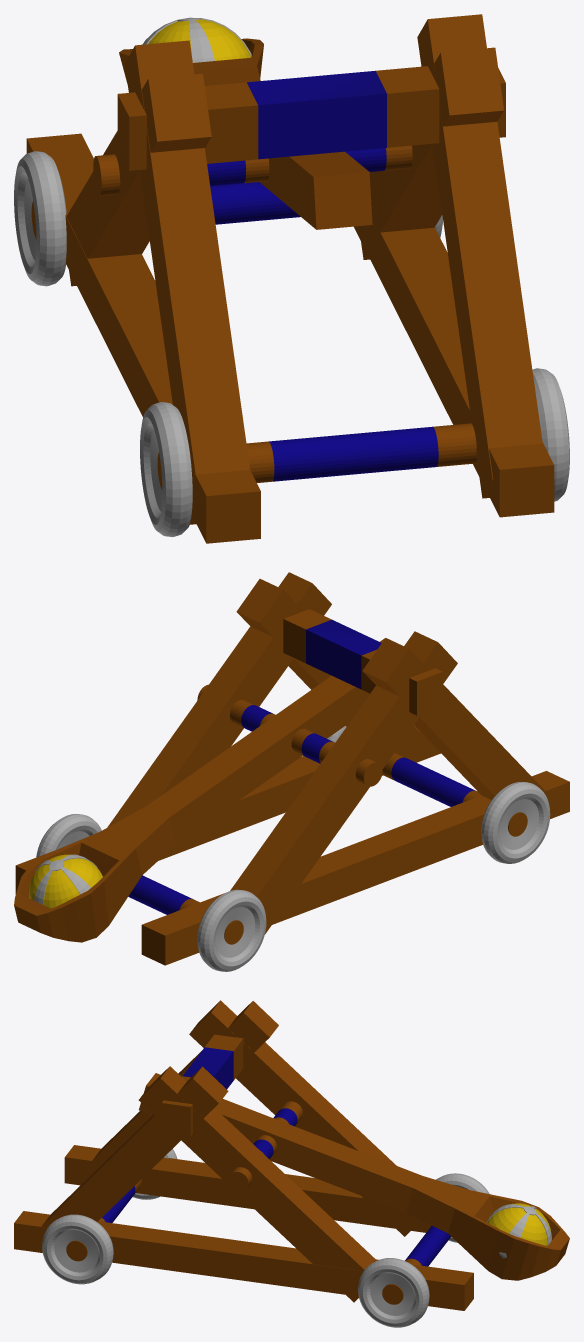
File: Катапульта3.fbx
3 views of the same model, one above another, from view 1: azimuth 30°, elevation 25°; view 2: azimuth 150°, elevation 25°; view 3: azimuth 270°, elevation 25° (orthographic). The views are drawn at different scales.
Parts seen in each view (by area): view 1: Куб.050, Куб.053, Куб.046, Куб.047, Куб.048, Куб.051, Куб.049, Цилиндр.095, Куб.052, Тор.020, Тор.021, Цилиндр.097 (+4 smaller); view 2: Куб.052, Куб.047, Куб.051, Куб.049, Куб.053, Куб.046, Куб.048, Тор.020, Тор.021, Куб.050, Цилиндр.095, Цилиндр.097 (+4 smaller); view 3: Куб.052, Куб.048, Куб.049, Куб.051, Куб.047, Куб.050, Тор.022, Тор.019, Куб.046, Куб.053, Цилиндр.097, Цилиндр.096 (+4 smaller).
Boxes of the visible parts, x1,y1,x2,y2 form: Куб.050: (417,14,542,498); Куб.053: (124,40,249,524); Куб.046: (117,66,505,170); Куб.047: (26,133,260,543); Куб.048: (354,226,554,517); Куб.051: (66,73,211,286); Куб.049: (359,47,503,259); Цилиндр.095: (157,423,476,489); Куб.052: (119,38,372,229); Тор.020: (14,151,66,286); Тор.021: (140,402,192,537); Цилиндр.097: (93,145,412,196); Куб.052: (14,638,384,942); Куб.047: (141,771,569,965); Куб.051: (230,631,457,934); Куб.049: (107,572,331,827); Куб.053: (362,638,544,799); Куб.046: (283,609,442,715); Куб.048: (15,725,440,894); Тор.020: (197,889,266,971); Тор.021: (481,782,550,863); Куб.050: (236,579,429,762); Цилиндр.095: (382,752,527,836); Цилиндр.097: (197,684,382,786); Куб.052: (139,1073,569,1280); Куб.048: (14,1211,473,1310); Куб.049: (138,1066,375,1302); Куб.051: (189,1000,420,1236); Куб.047: (64,1145,431,1232); Куб.050: (41,1066,228,1227); Тор.022: (42,1214,113,1284); Тор.019: (358,1258,429,1327); Куб.046: (161,1034,243,1136); Куб.053: (81,1001,278,1178); Цилиндр.097: (227,1101,302,1191); Цилиндр.096: (382,1226,451,1304).
Size of the model in its own units: 112 by 78.91 by 184.
